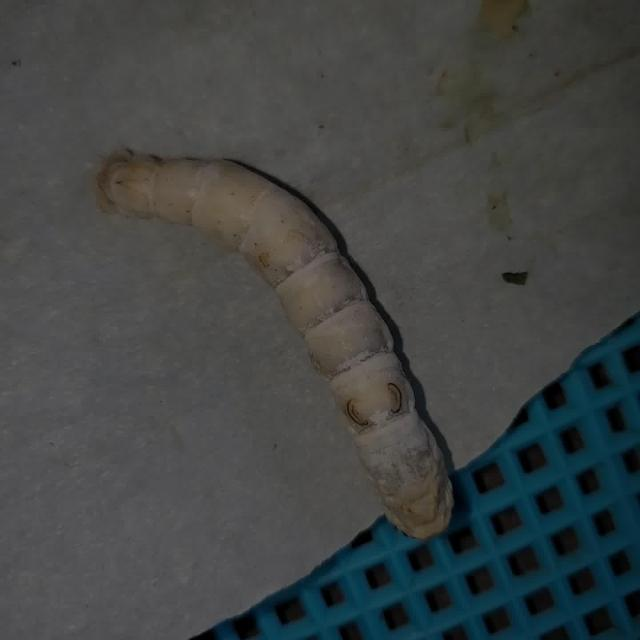Grasserie: (70, 116, 481, 548)
